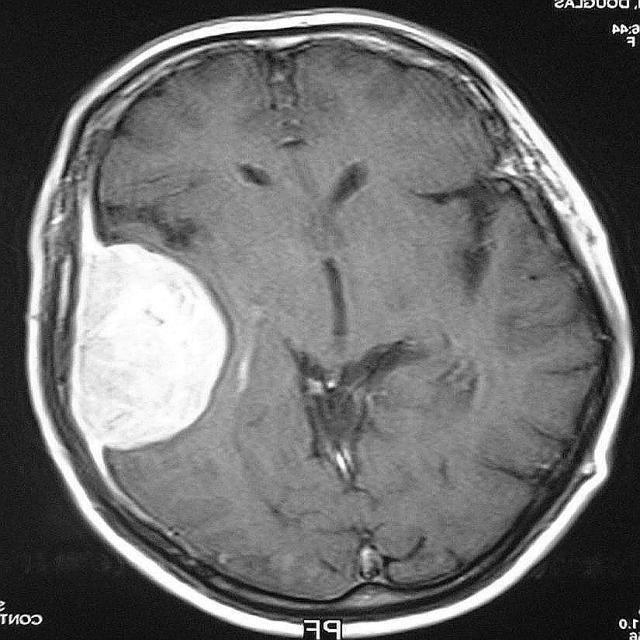Tumor-Cell: (60, 224, 240, 474)
